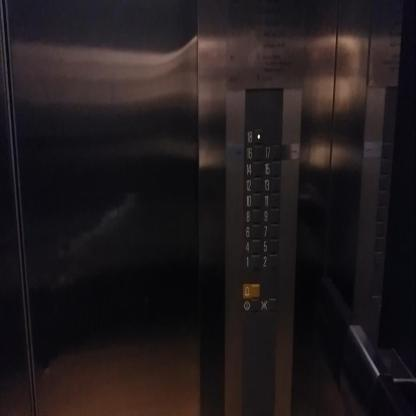1: (240, 253, 261, 270)
10: (242, 192, 262, 210)
11: (262, 191, 280, 210)
12: (242, 175, 262, 194)
13: (262, 175, 281, 194)
14: (242, 160, 262, 178)
15: (262, 159, 282, 178)
16: (243, 143, 263, 163)
17: (262, 142, 282, 162)
18: (243, 126, 263, 146)
2: (260, 252, 280, 271)
4: (240, 237, 261, 256)
5: (261, 237, 279, 255)
6: (241, 223, 261, 242)
7: (262, 221, 280, 240)
8: (241, 208, 262, 225)
9: (262, 207, 280, 225)
alarm: (242, 282, 260, 299)
close: (260, 298, 276, 312)
open: (241, 297, 260, 313)
